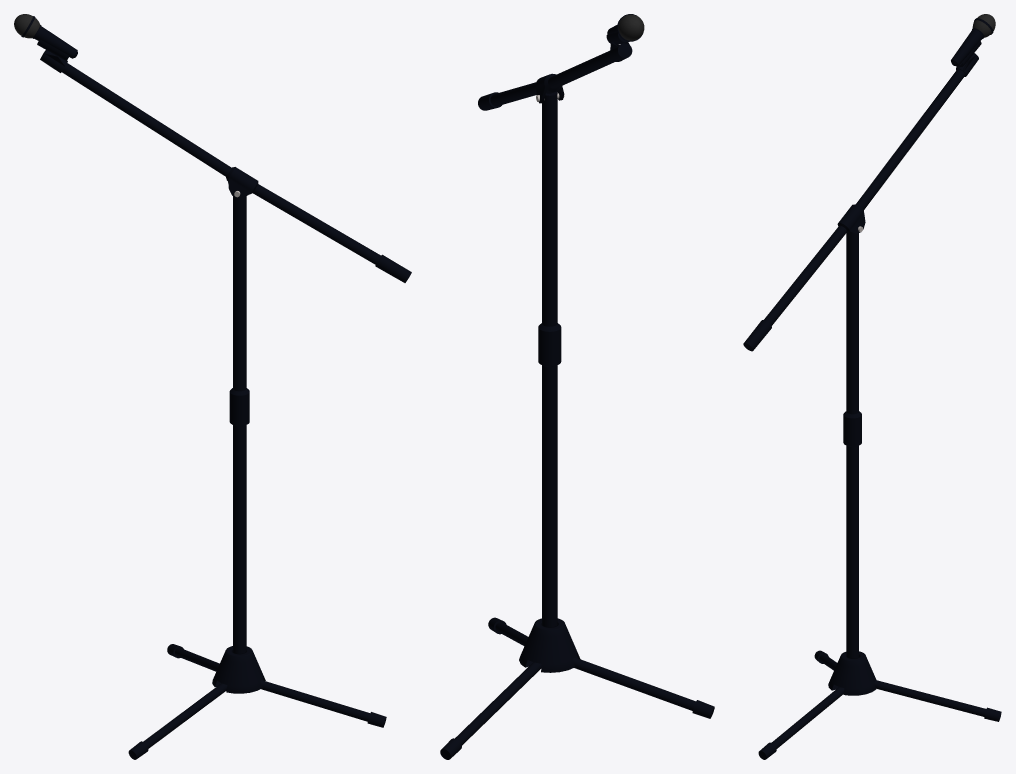
Rendered from microphone_stand.glb.
3 renders of one model, left to right at view 1: azimuth 30°, elevation 25°; view 2: azimuth 150°, elevation 25°; view 3: azimuth 270°, elevation 25°, orthographic. The views are drawn at different scales.
Parts seen in each view (by area): view 1: pCylinder20, pCylinder27, pCone1, pCylinder26, pCylinder23, pSphere2; view 2: pCylinder20, pCylinder27, pCone1, pCylinder23, pCylinder25, pSphere2, pCylinder26; view 3: pCylinder20, pCylinder27, pCone1, pCylinder25, pCylinder26, pSphere2.
Part boxes in pixels (<box>): pCylinder20: <box>229,196,249,653</box>; pCylinder27: <box>40,50,411,282</box>; pCone1: <box>212,646,265,693</box>; pCylinder26: <box>260,680,386,727</box>; pCylinder23: <box>128,683,227,759</box>; pSphere2: <box>14,14,77,58</box>; pCylinder20: <box>538,91,561,627</box>; pCylinder27: <box>478,42,632,110</box>; pCone1: <box>519,618,580,672</box>; pCylinder23: <box>572,657,714,718</box>; pCylinder25: <box>440,662,541,759</box>; pSphere2: <box>607,14,644,41</box>; pCylinder26: <box>488,617,528,646</box>; pCylinder20: <box>843,232,861,658</box>; pCylinder27: <box>743,53,978,351</box>; pCone1: <box>828,651,876,695</box>; pCylinder25: <box>874,680,1001,721</box>; pCylinder26: <box>758,687,844,759</box>; pSphere2: <box>951,14,995,66</box>.
Size of the model in its own units: 0.3144 by 0.7628 by 0.2802.
Materials: 1 (1 with a texture image).
